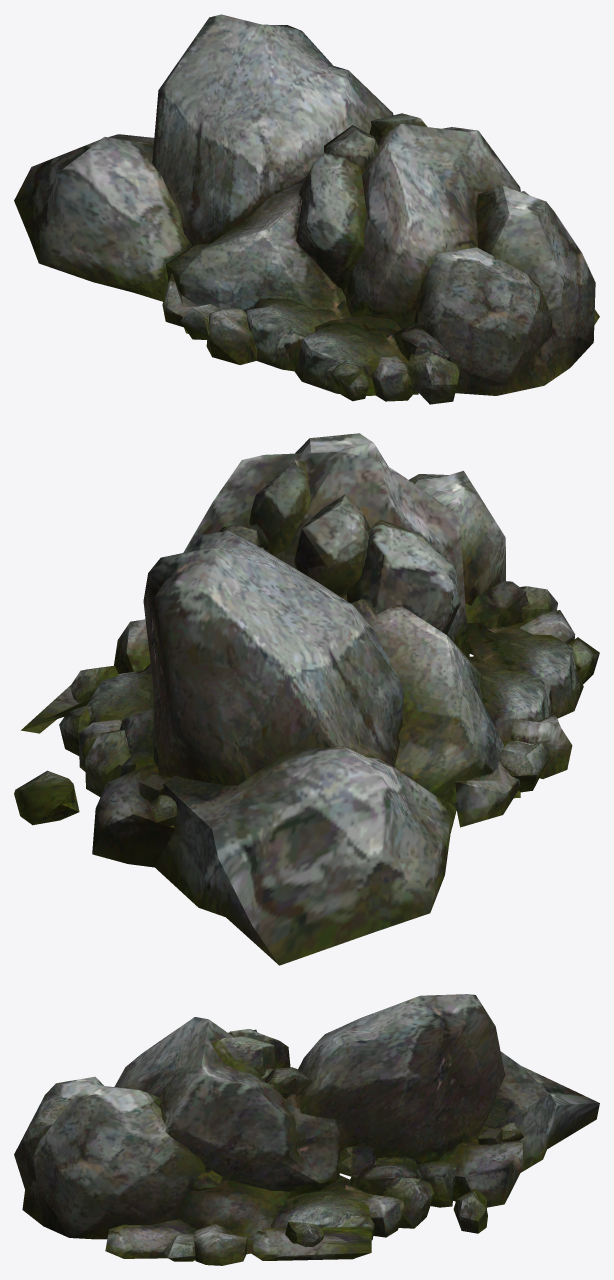
Rendered from dashitou05.FBX.
3 renders of one model, top to bottom at view 1: azimuth 30°, elevation 25°; view 2: azimuth 150°, elevation 25°; view 3: azimuth 270°, elevation 25°, orthographic. The views are drawn at different scales.
Visible parts, largest first — view 1: dashitou05; view 2: dashitou05; view 3: dashitou05.
Part boxes in pixels (x1,y1,x2,y2): dashitou05: (14,14,599,404); dashitou05: (14,433,599,965); dashitou05: (14,994,599,1265).
Size of the model in its own units: 5.17 by 2.73 by 7.68.
